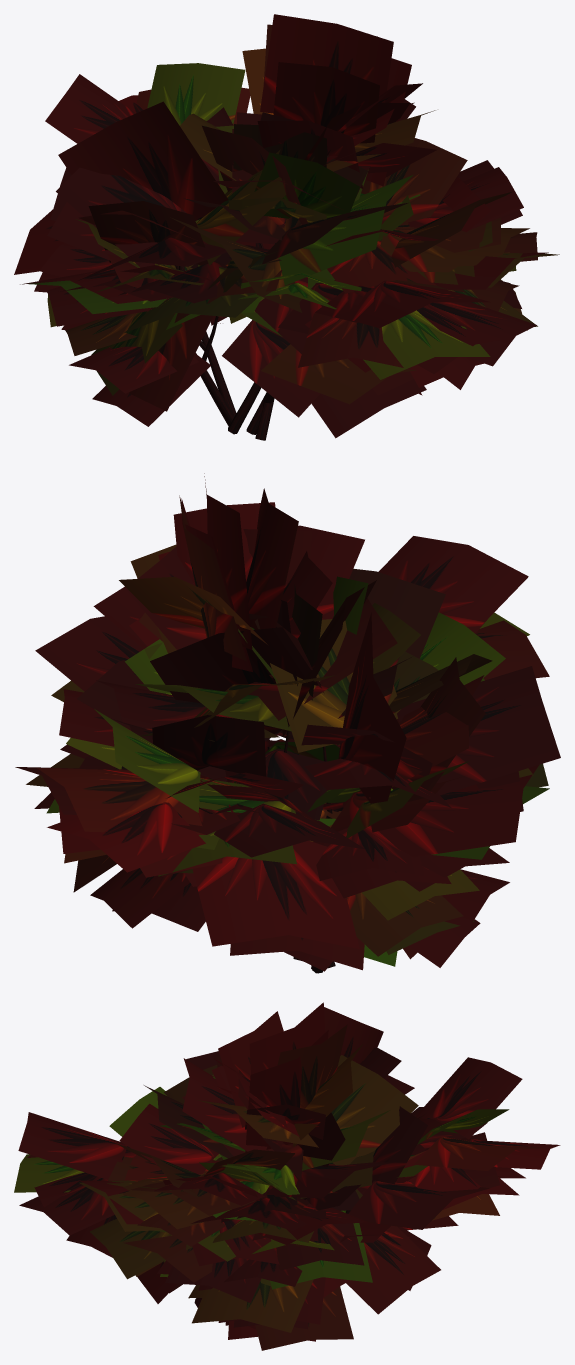
The model's file is veg_bush2.glb.
3 views of the same model, one above another, from view 1: azimuth 30°, elevation 25°; view 2: azimuth 150°, elevation 25°; view 3: azimuth 270°, elevation 25° (orthographic). The views are drawn at different scales.
Parts seen in each view (by area): view 1: bush_2; view 2: bush_2; view 3: bush_2.
Part boxes in pixels (<box>): bush_2: <box>14,14,559,440</box>; bush_2: <box>15,473,560,973</box>; bush_2: <box>14,1002,560,1350</box>.
Bounding box in the file's own units: 2 × 1.66 × 2.53.
2 materials, 2 textured.
